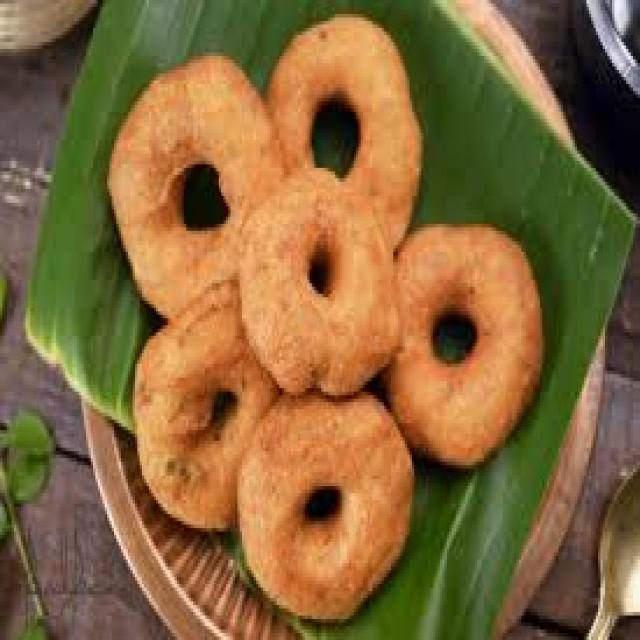MEDU VADA: (110, 15, 541, 621), (236, 168, 403, 397), (305, 87, 361, 177), (170, 159, 225, 237), (427, 295, 478, 374), (295, 475, 345, 542), (299, 238, 339, 304), (201, 386, 243, 440), (262, 98, 286, 170), (234, 452, 240, 488), (229, 488, 234, 523)
